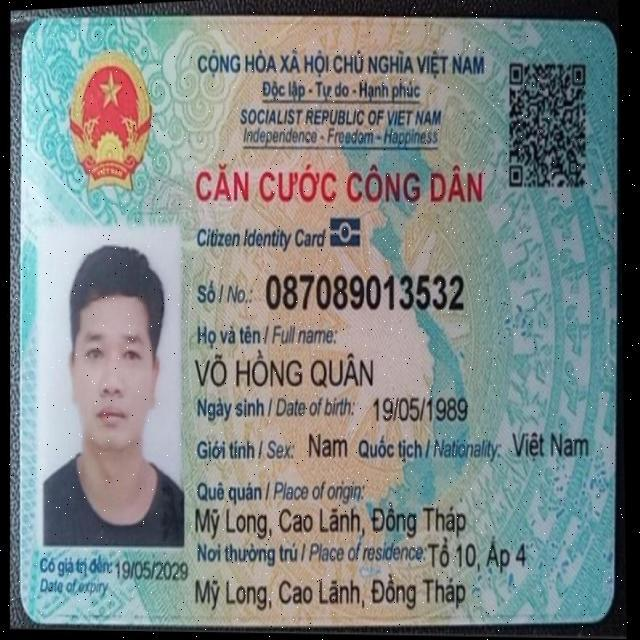current_place: (192, 568, 469, 614), (426, 534, 533, 574)
dob: (374, 394, 471, 425)
expire_date: (114, 558, 190, 586)
gender: (304, 427, 353, 464)
id: (263, 266, 467, 313)
name: (195, 347, 376, 392)
nationality: (507, 424, 591, 465)
origin_place: (194, 500, 469, 537)
qr: (506, 56, 588, 191)
